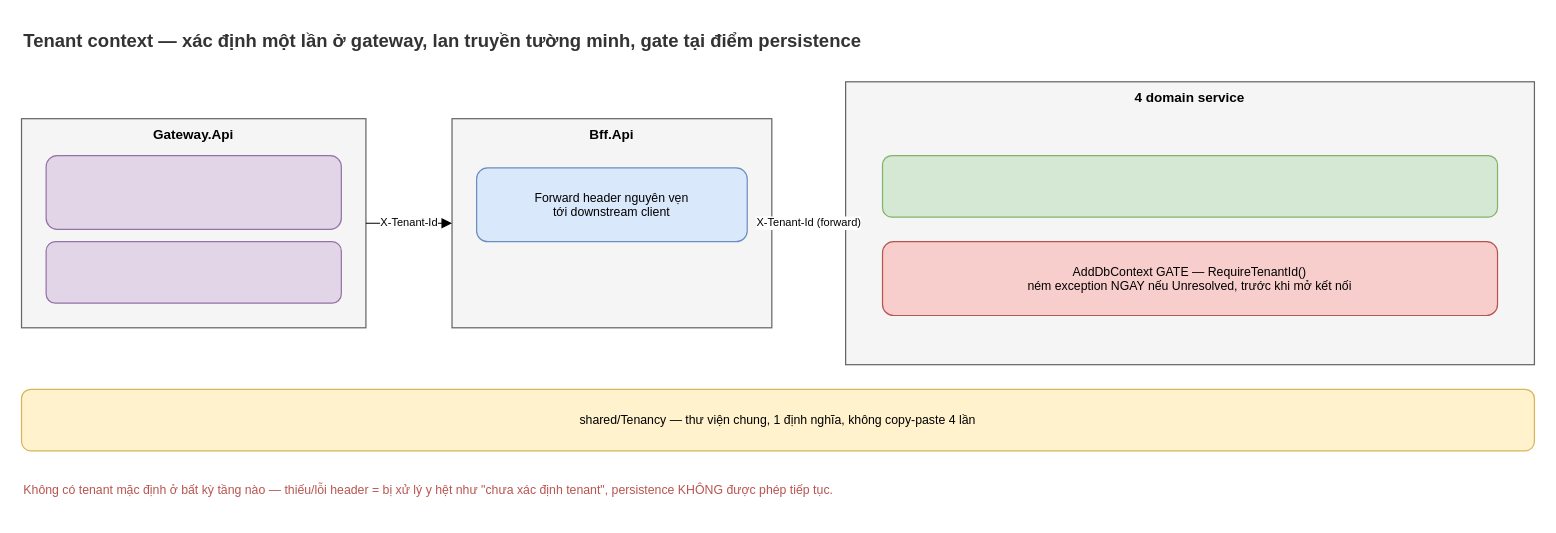
Image size: 1556x533. Some labels were removed from this diagram. Each missing label, with the centre of its shape:
"Gán header X-Tenant-Id (không thể client chỉnh sửa)" goes at (x=193, y=271).
"StubIdentityAuthenticationHandler xác định tenant MỘT LẦN" goes at (x=193, y=191).
"TenantContext.Resolved từ header" goes at (x=1189, y=185).
